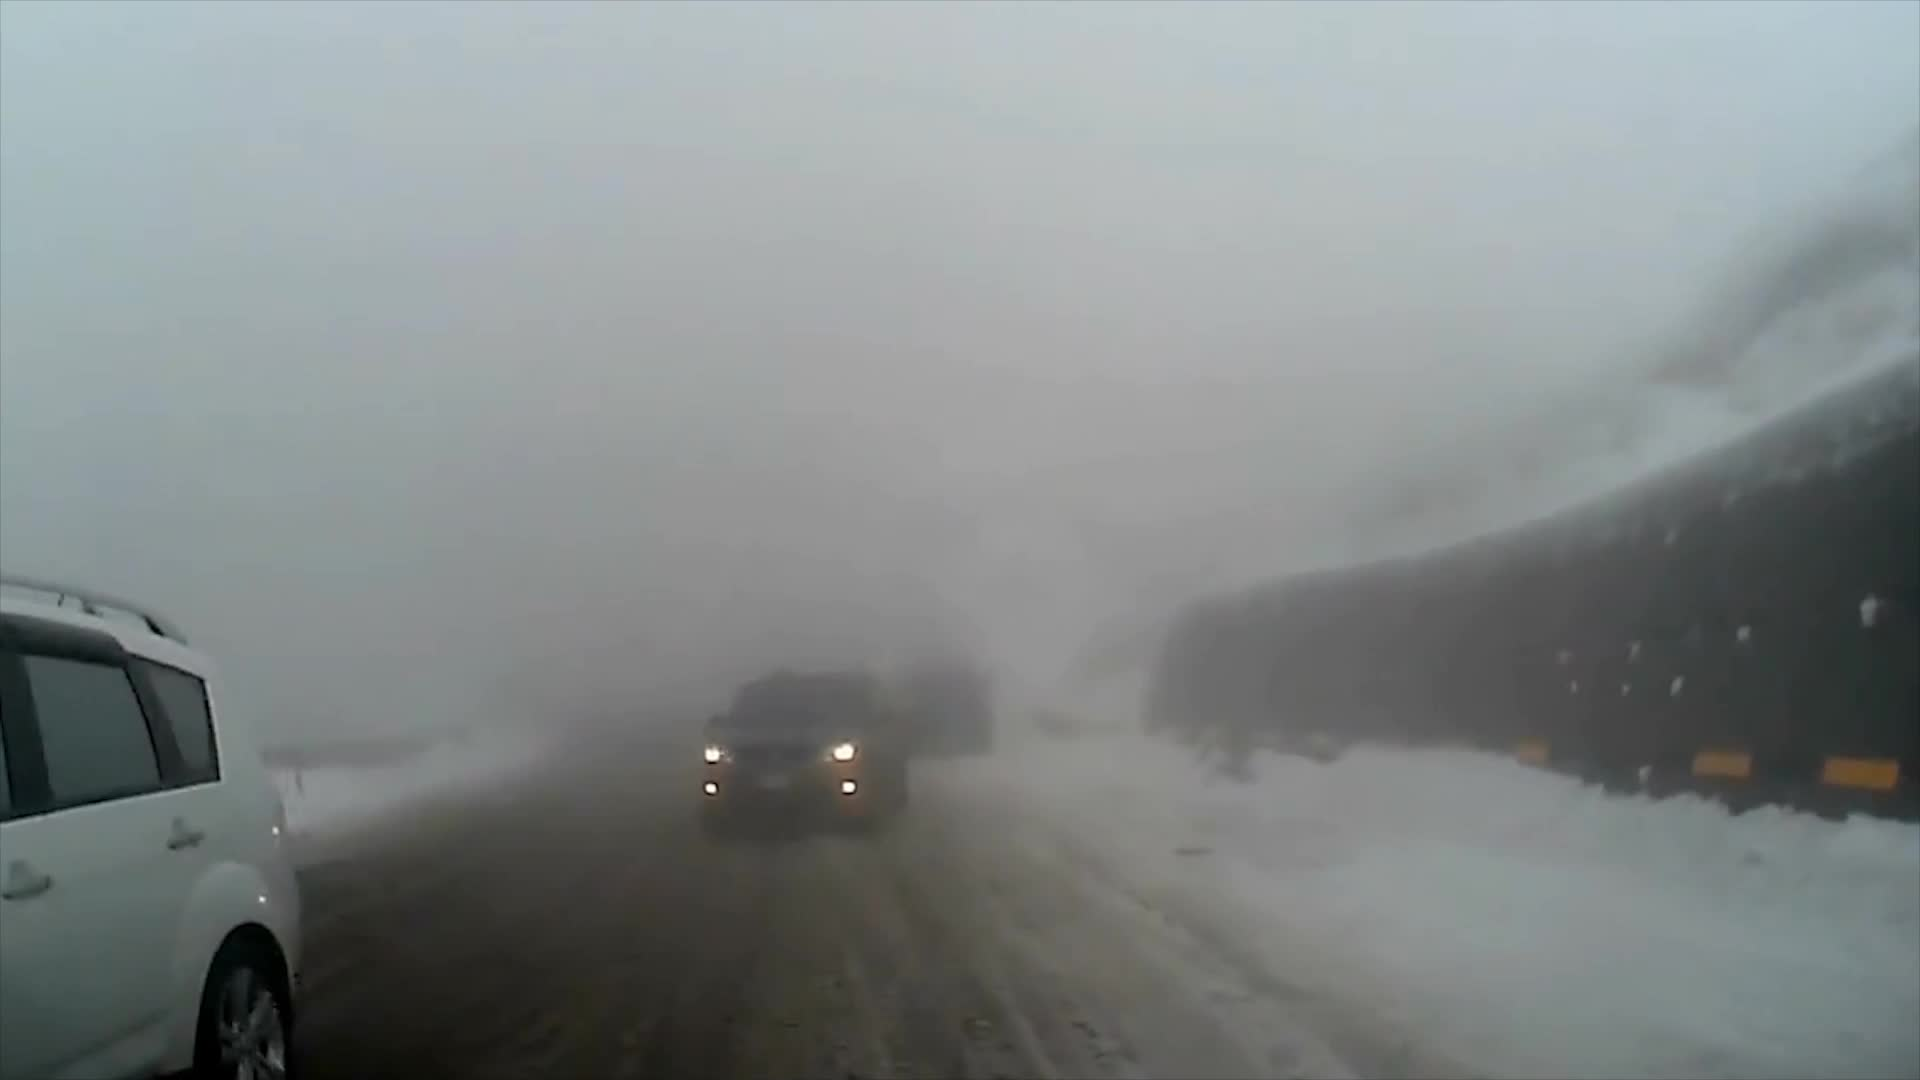vehicle: (0, 576, 307, 1080), (694, 663, 910, 839)
